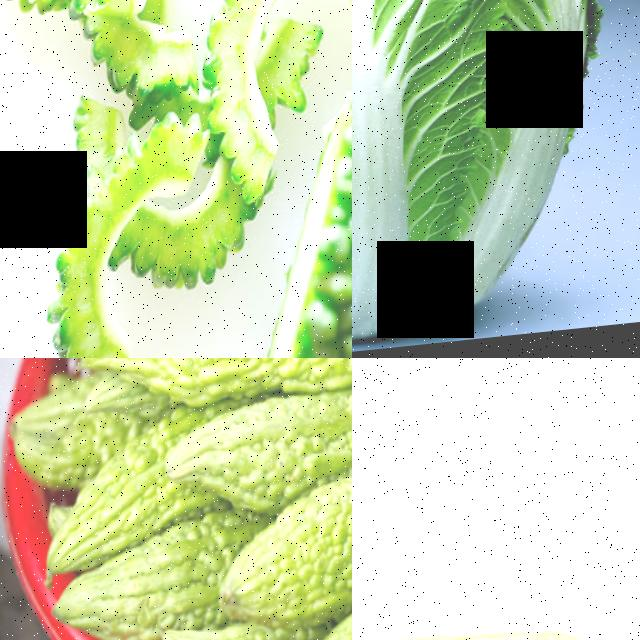bitter gourd: (14, 0, 275, 358), (270, 95, 352, 358), (187, 378, 352, 501), (352, 563, 613, 640), (51, 522, 212, 639), (229, 478, 352, 620), (51, 421, 172, 546), (165, 624, 280, 640)
cabbage: (352, 0, 622, 358)
